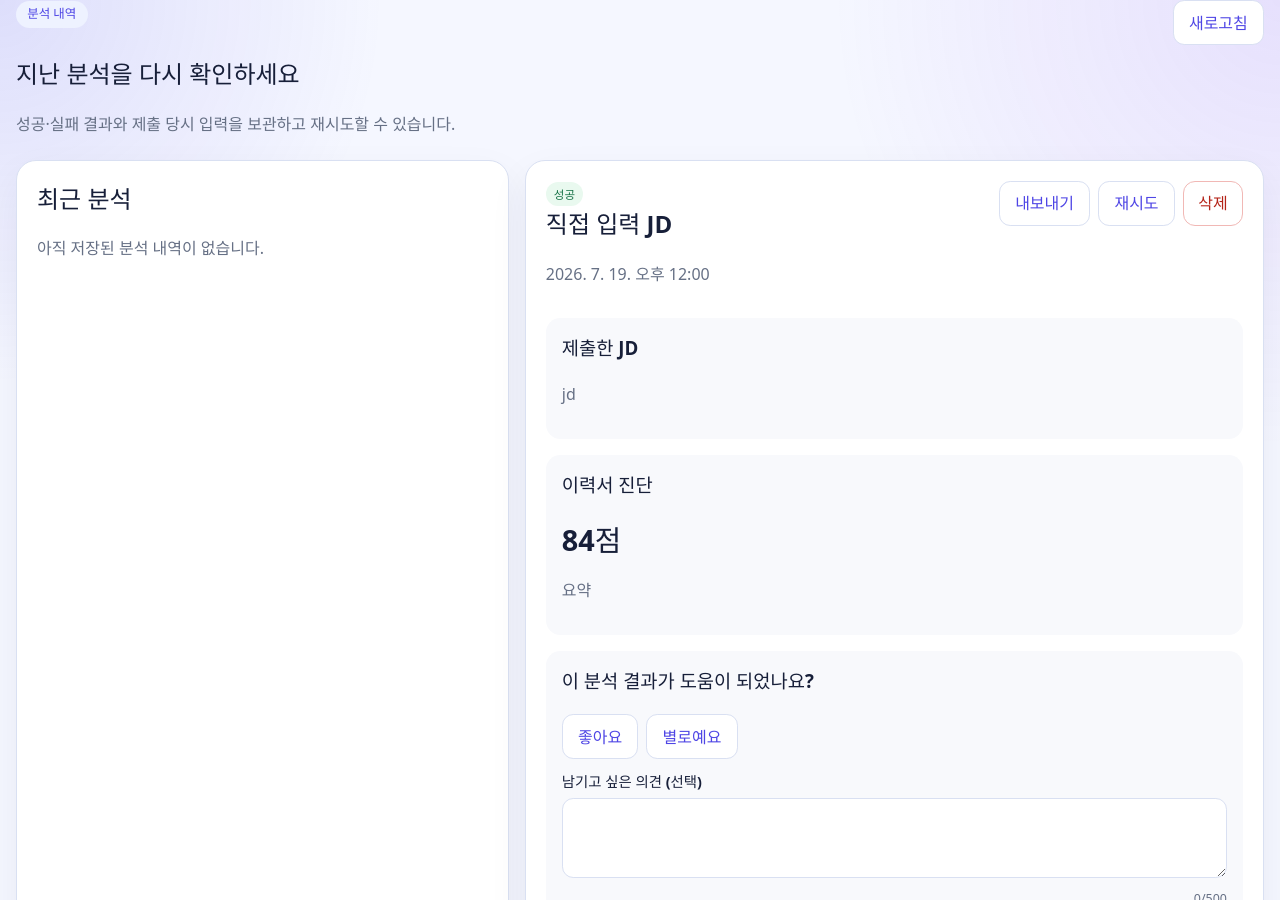
it: AnalysisHistoryView 피드백 위젯 › 평가와 코멘트를 담아 제출을 부모에 위임하고 저장 결과를 알린다
Click the button "좋아요" at x=600, y=737, box top-left (562, 714), bottom-right (638, 760)
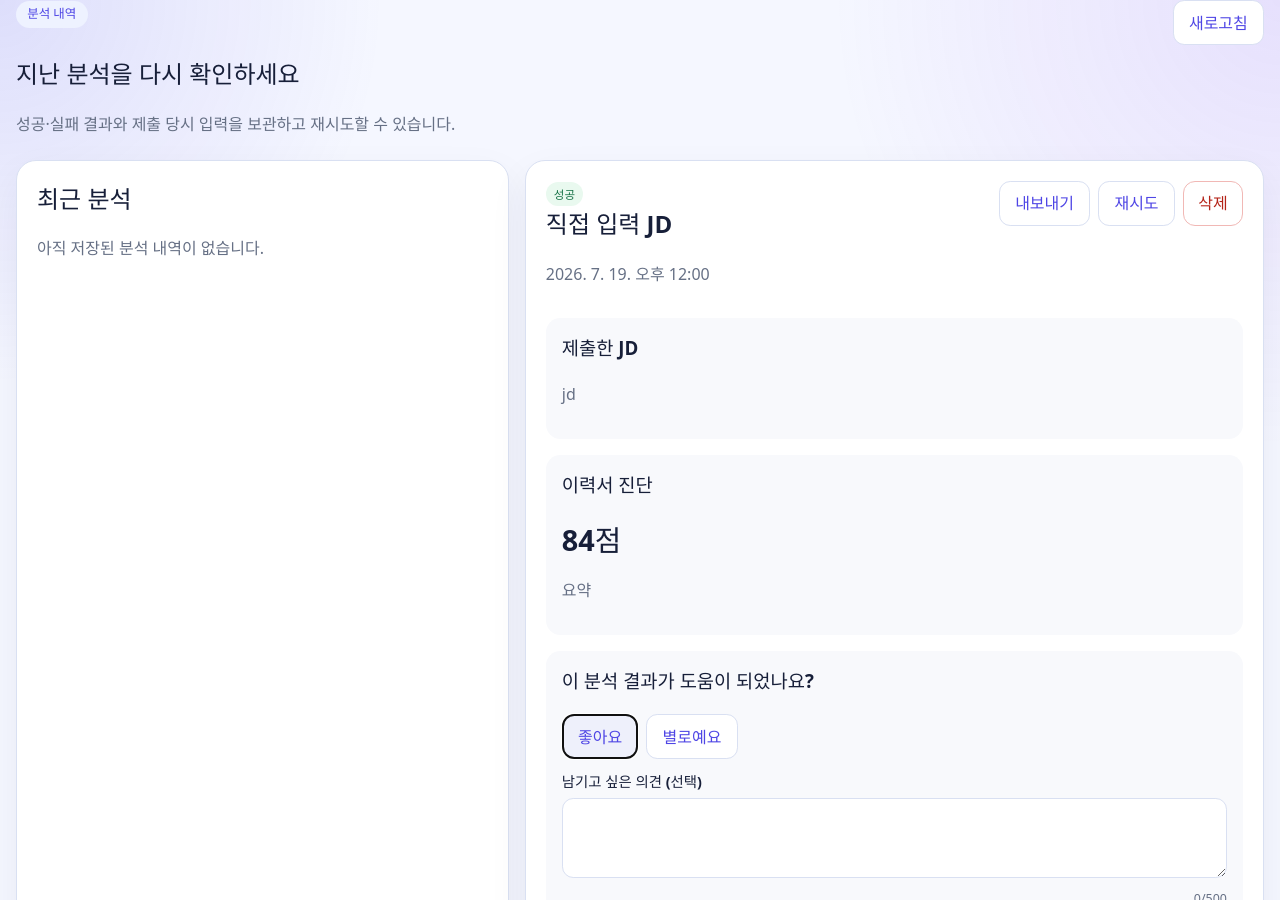
Type "도움이 되었어요" into the text box at x=894, y=838, box top-left (562, 798), bottom-right (1227, 878)
(page scrolled)
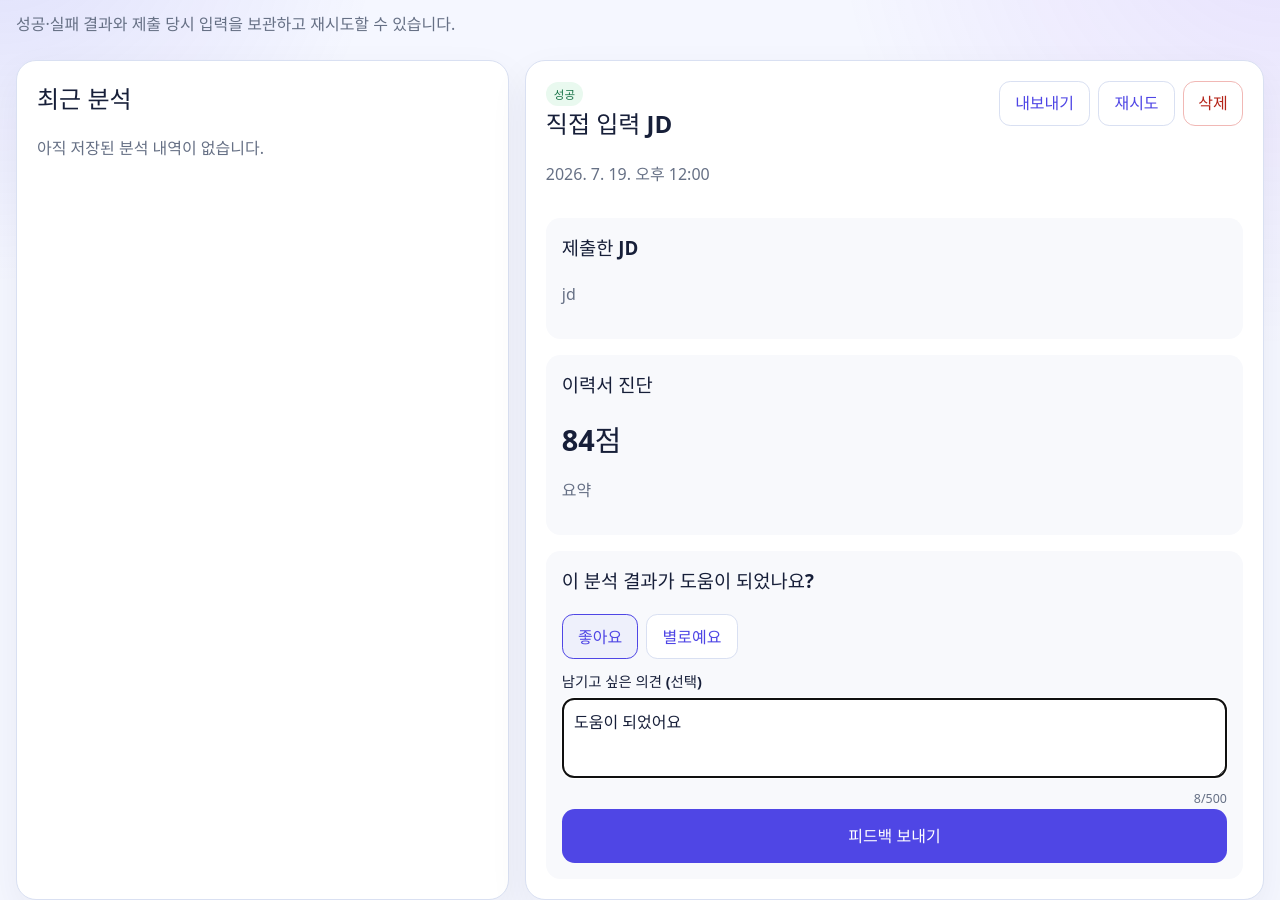
Click the button "피드백 보내기" at x=894, y=836, box top-left (562, 809), bottom-right (1227, 863)
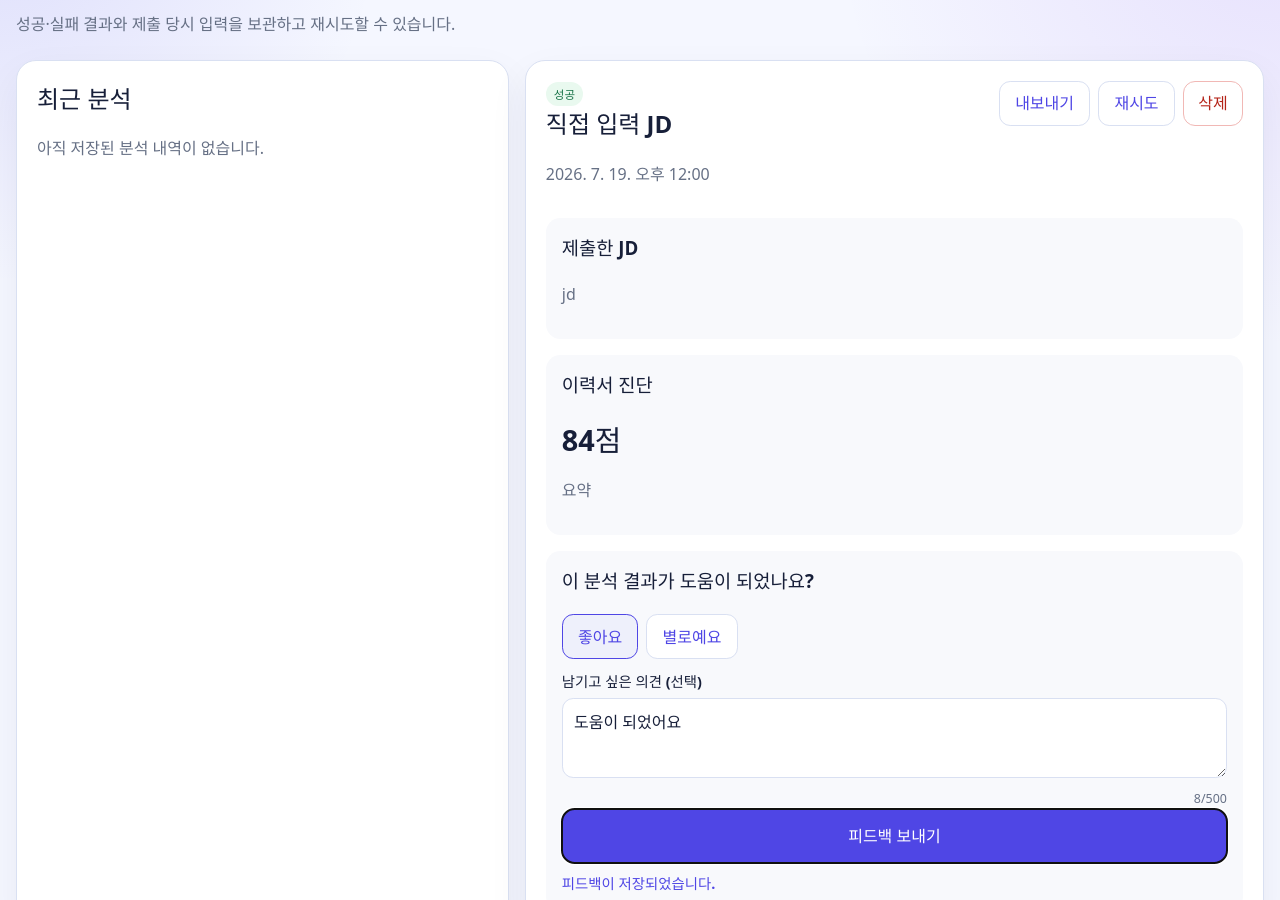
Now the text "피드백이 저장되었습니다." is shown, box top-left (562, 874), bottom-right (715, 893)
